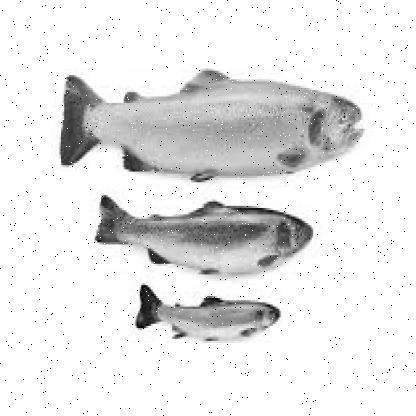fish: (57, 68, 364, 184), (92, 192, 314, 274), (133, 280, 281, 338)
